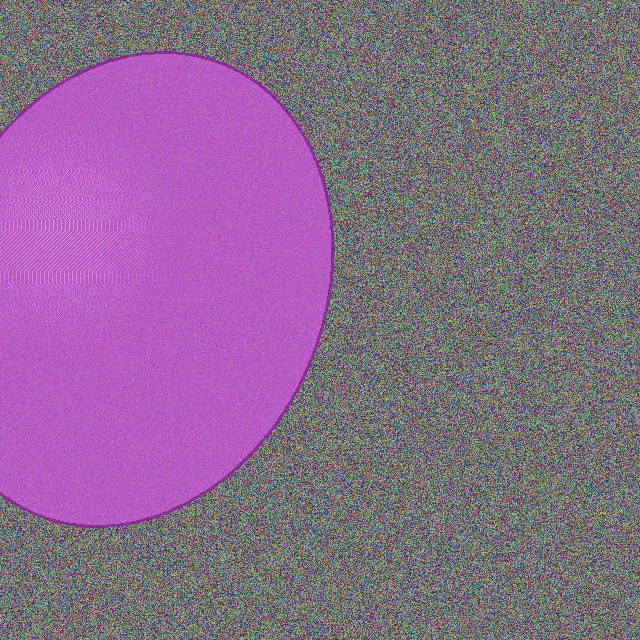lens: (0, 52, 332, 526)
